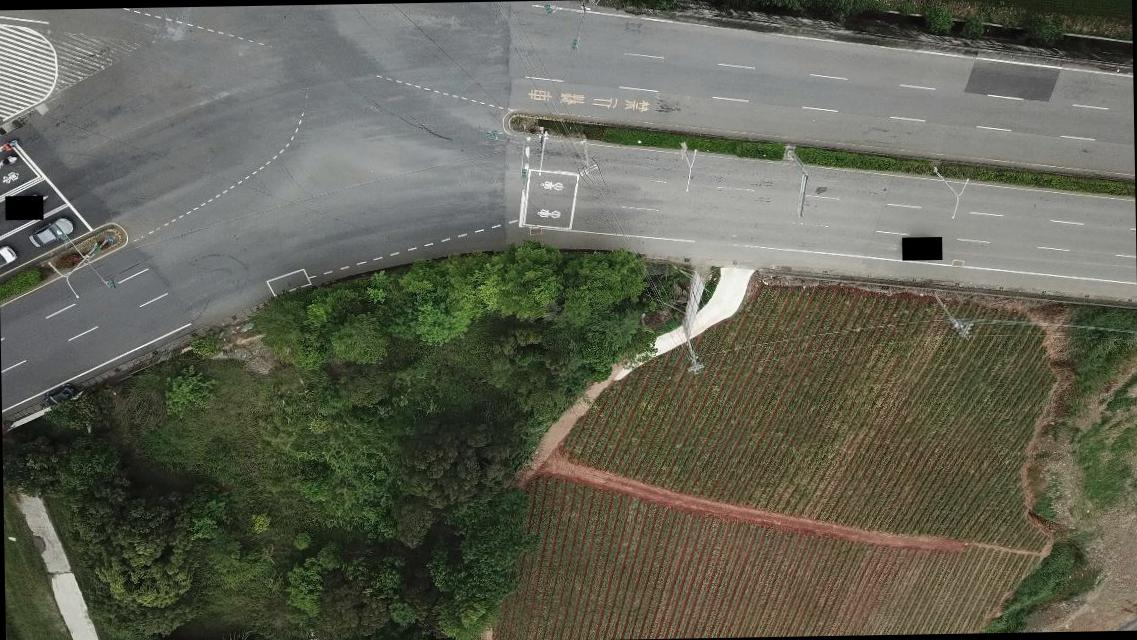vehicle: (27, 216, 73, 246), (42, 382, 76, 407), (0, 246, 20, 266)
